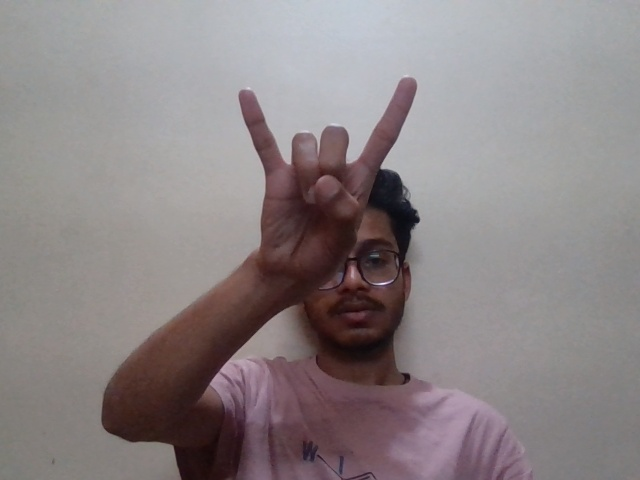i-love-you: (226, 66, 435, 297)
